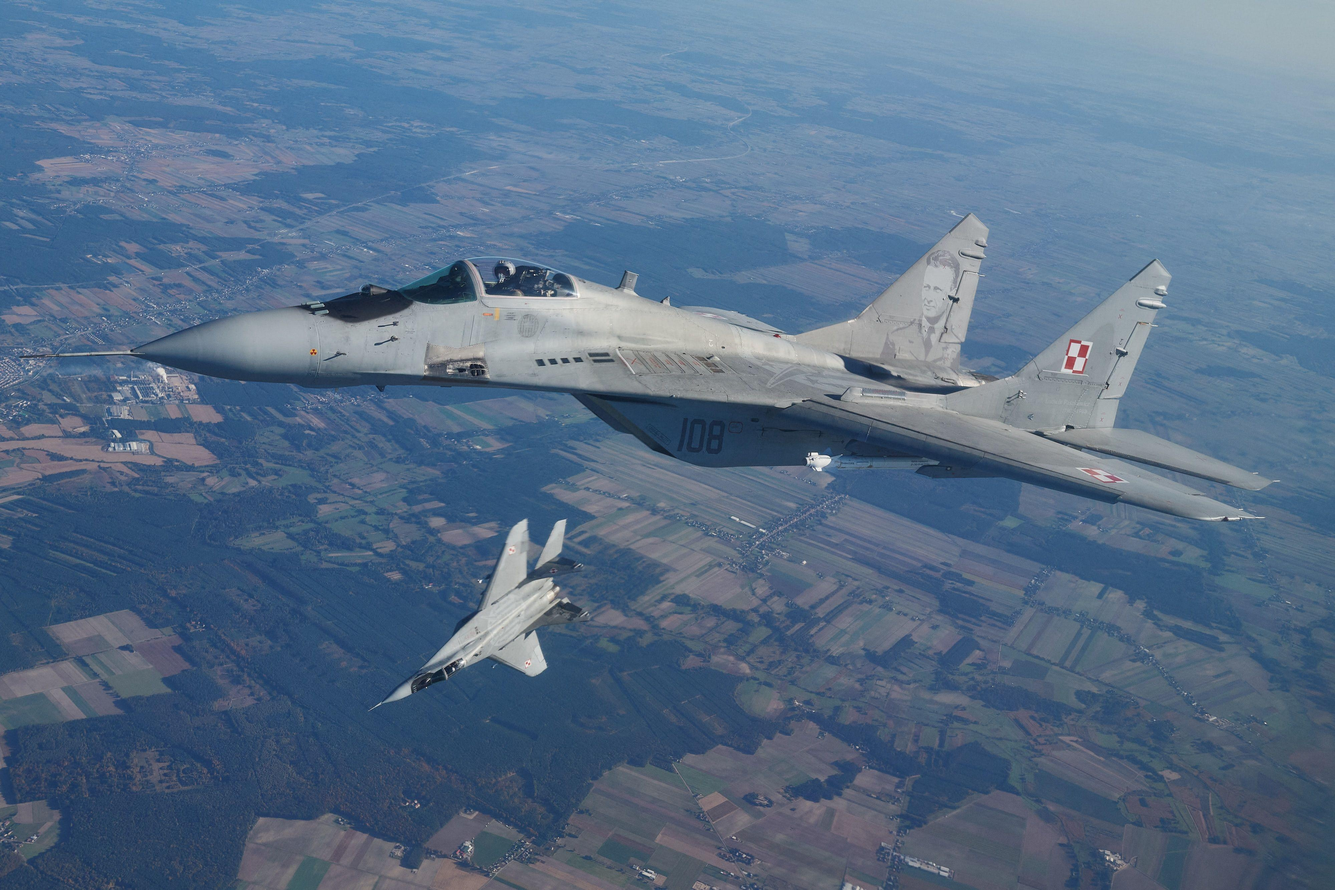aircraft: (57, 212, 1252, 704), (71, 211, 1263, 523), (373, 519, 575, 702)
